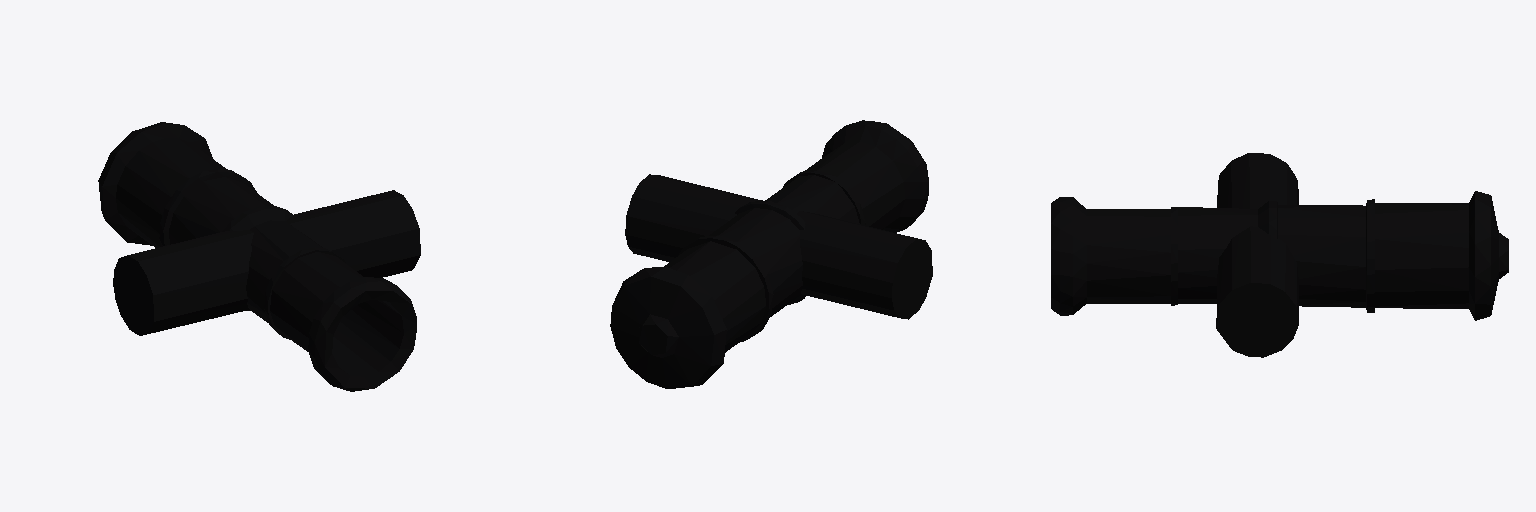
Rendered from cannon_shooter.obj.
The picture shows the model from 3 angles: view 1: azimuth 30°, elevation 25°; view 2: azimuth 150°, elevation 25°; view 3: azimuth 270°, elevation 25°; orthographic projection.
Visible parts, largest first — view 1: Cylinder.001_Cylinder.001_Barrel_Cylinder.001_Cylinder.001_Barr; view 2: Cylinder.001_Cylinder.001_Barrel_Cylinder.001_Cylinder.001_Barr; view 3: Cylinder.001_Cylinder.001_Barrel_Cylinder.001_Cylinder.001_Barr.
Boxes of the visible parts, box(x1,y1,x2,y2) form: Cylinder.001_Cylinder.001_Barrel_Cylinder.001_Cylinder.001_Barr: box(98, 122, 420, 391); Cylinder.001_Cylinder.001_Barrel_Cylinder.001_Cylinder.001_Barr: box(610, 120, 932, 388); Cylinder.001_Cylinder.001_Barrel_Cylinder.001_Cylinder.001_Barr: box(1051, 153, 1508, 357).
Bounding box in the file's own units: 1.5 × 0.6372 × 2.22.